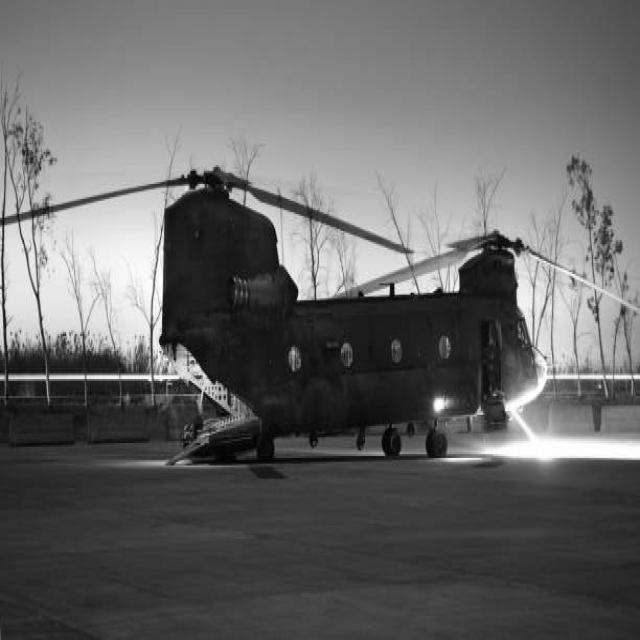Helicopter: (161, 170, 545, 460)
